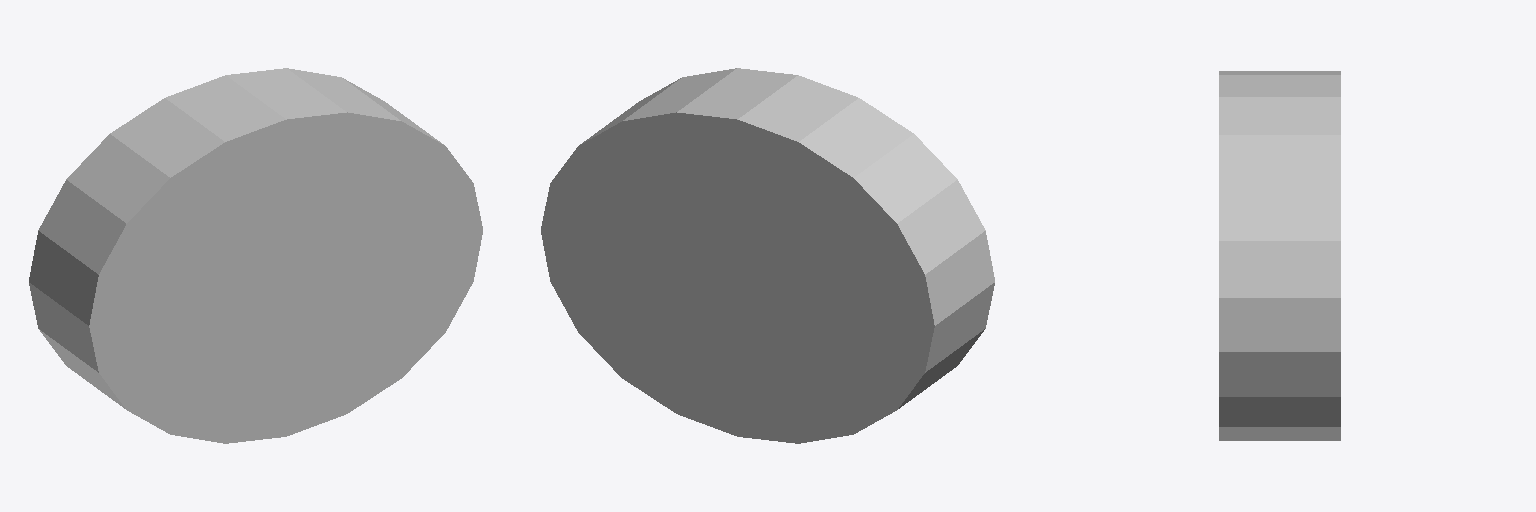
Rendered from ventana_puerta.obj.
3 renders of one model, left to right at view 1: azimuth 30°, elevation 25°; view 2: azimuth 150°, elevation 25°; view 3: azimuth 270°, elevation 25°, orthographic.
Visible parts, largest first — view 1: polySurface1113polySurface304; view 2: polySurface1113polySurface304; view 3: polySurface1113polySurface304.
Part boxes in pixels (x1,y1,x2,y2): polySurface1113polySurface304: (29,68,482,443); polySurface1113polySurface304: (541,68,994,443); polySurface1113polySurface304: (1219,71,1340,440).
Bounding box in the file's own units: 0.3901 × 0.3 × 0.1039.